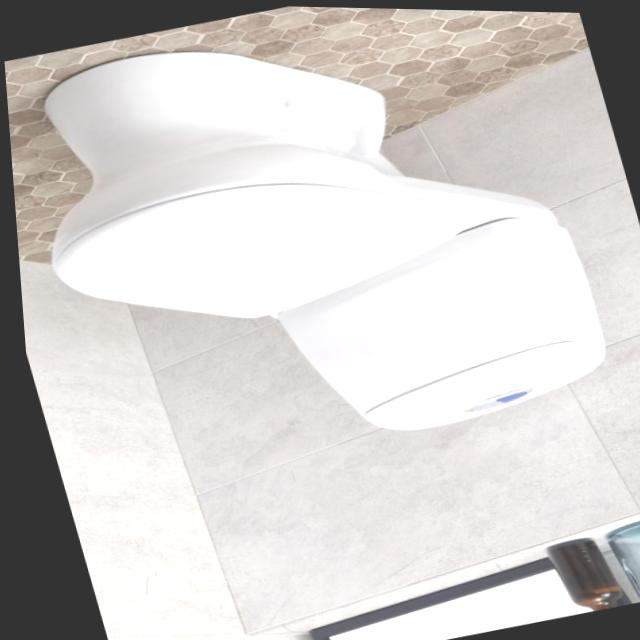toilet: (0, 0, 620, 498)
